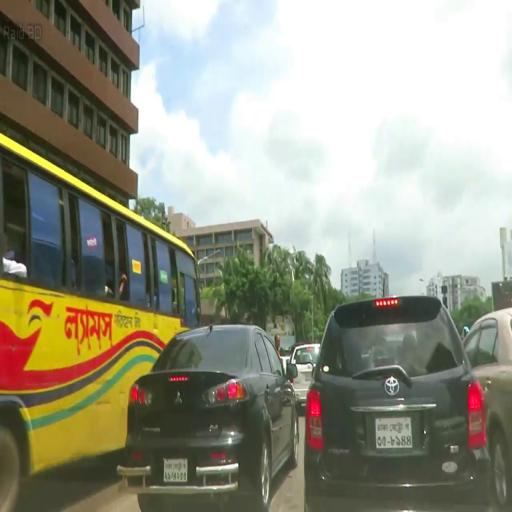bus: (1, 133, 202, 512)
car: (117, 321, 301, 509)
suv: (303, 293, 493, 512)
